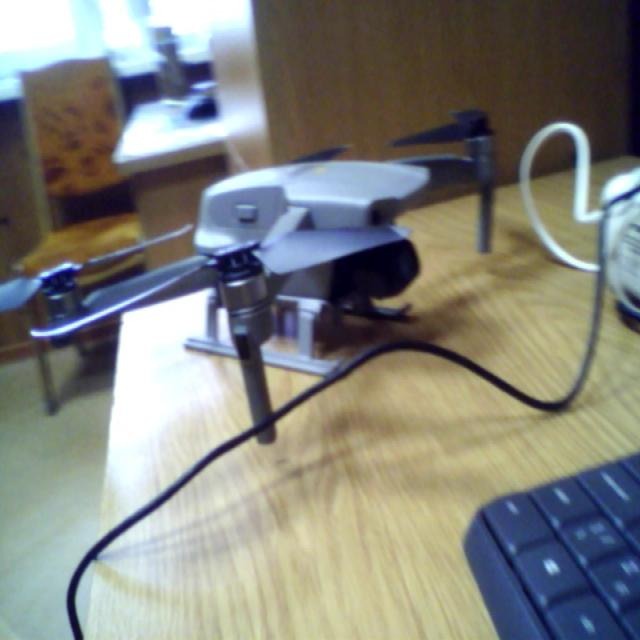drone: (0, 93, 552, 428)
